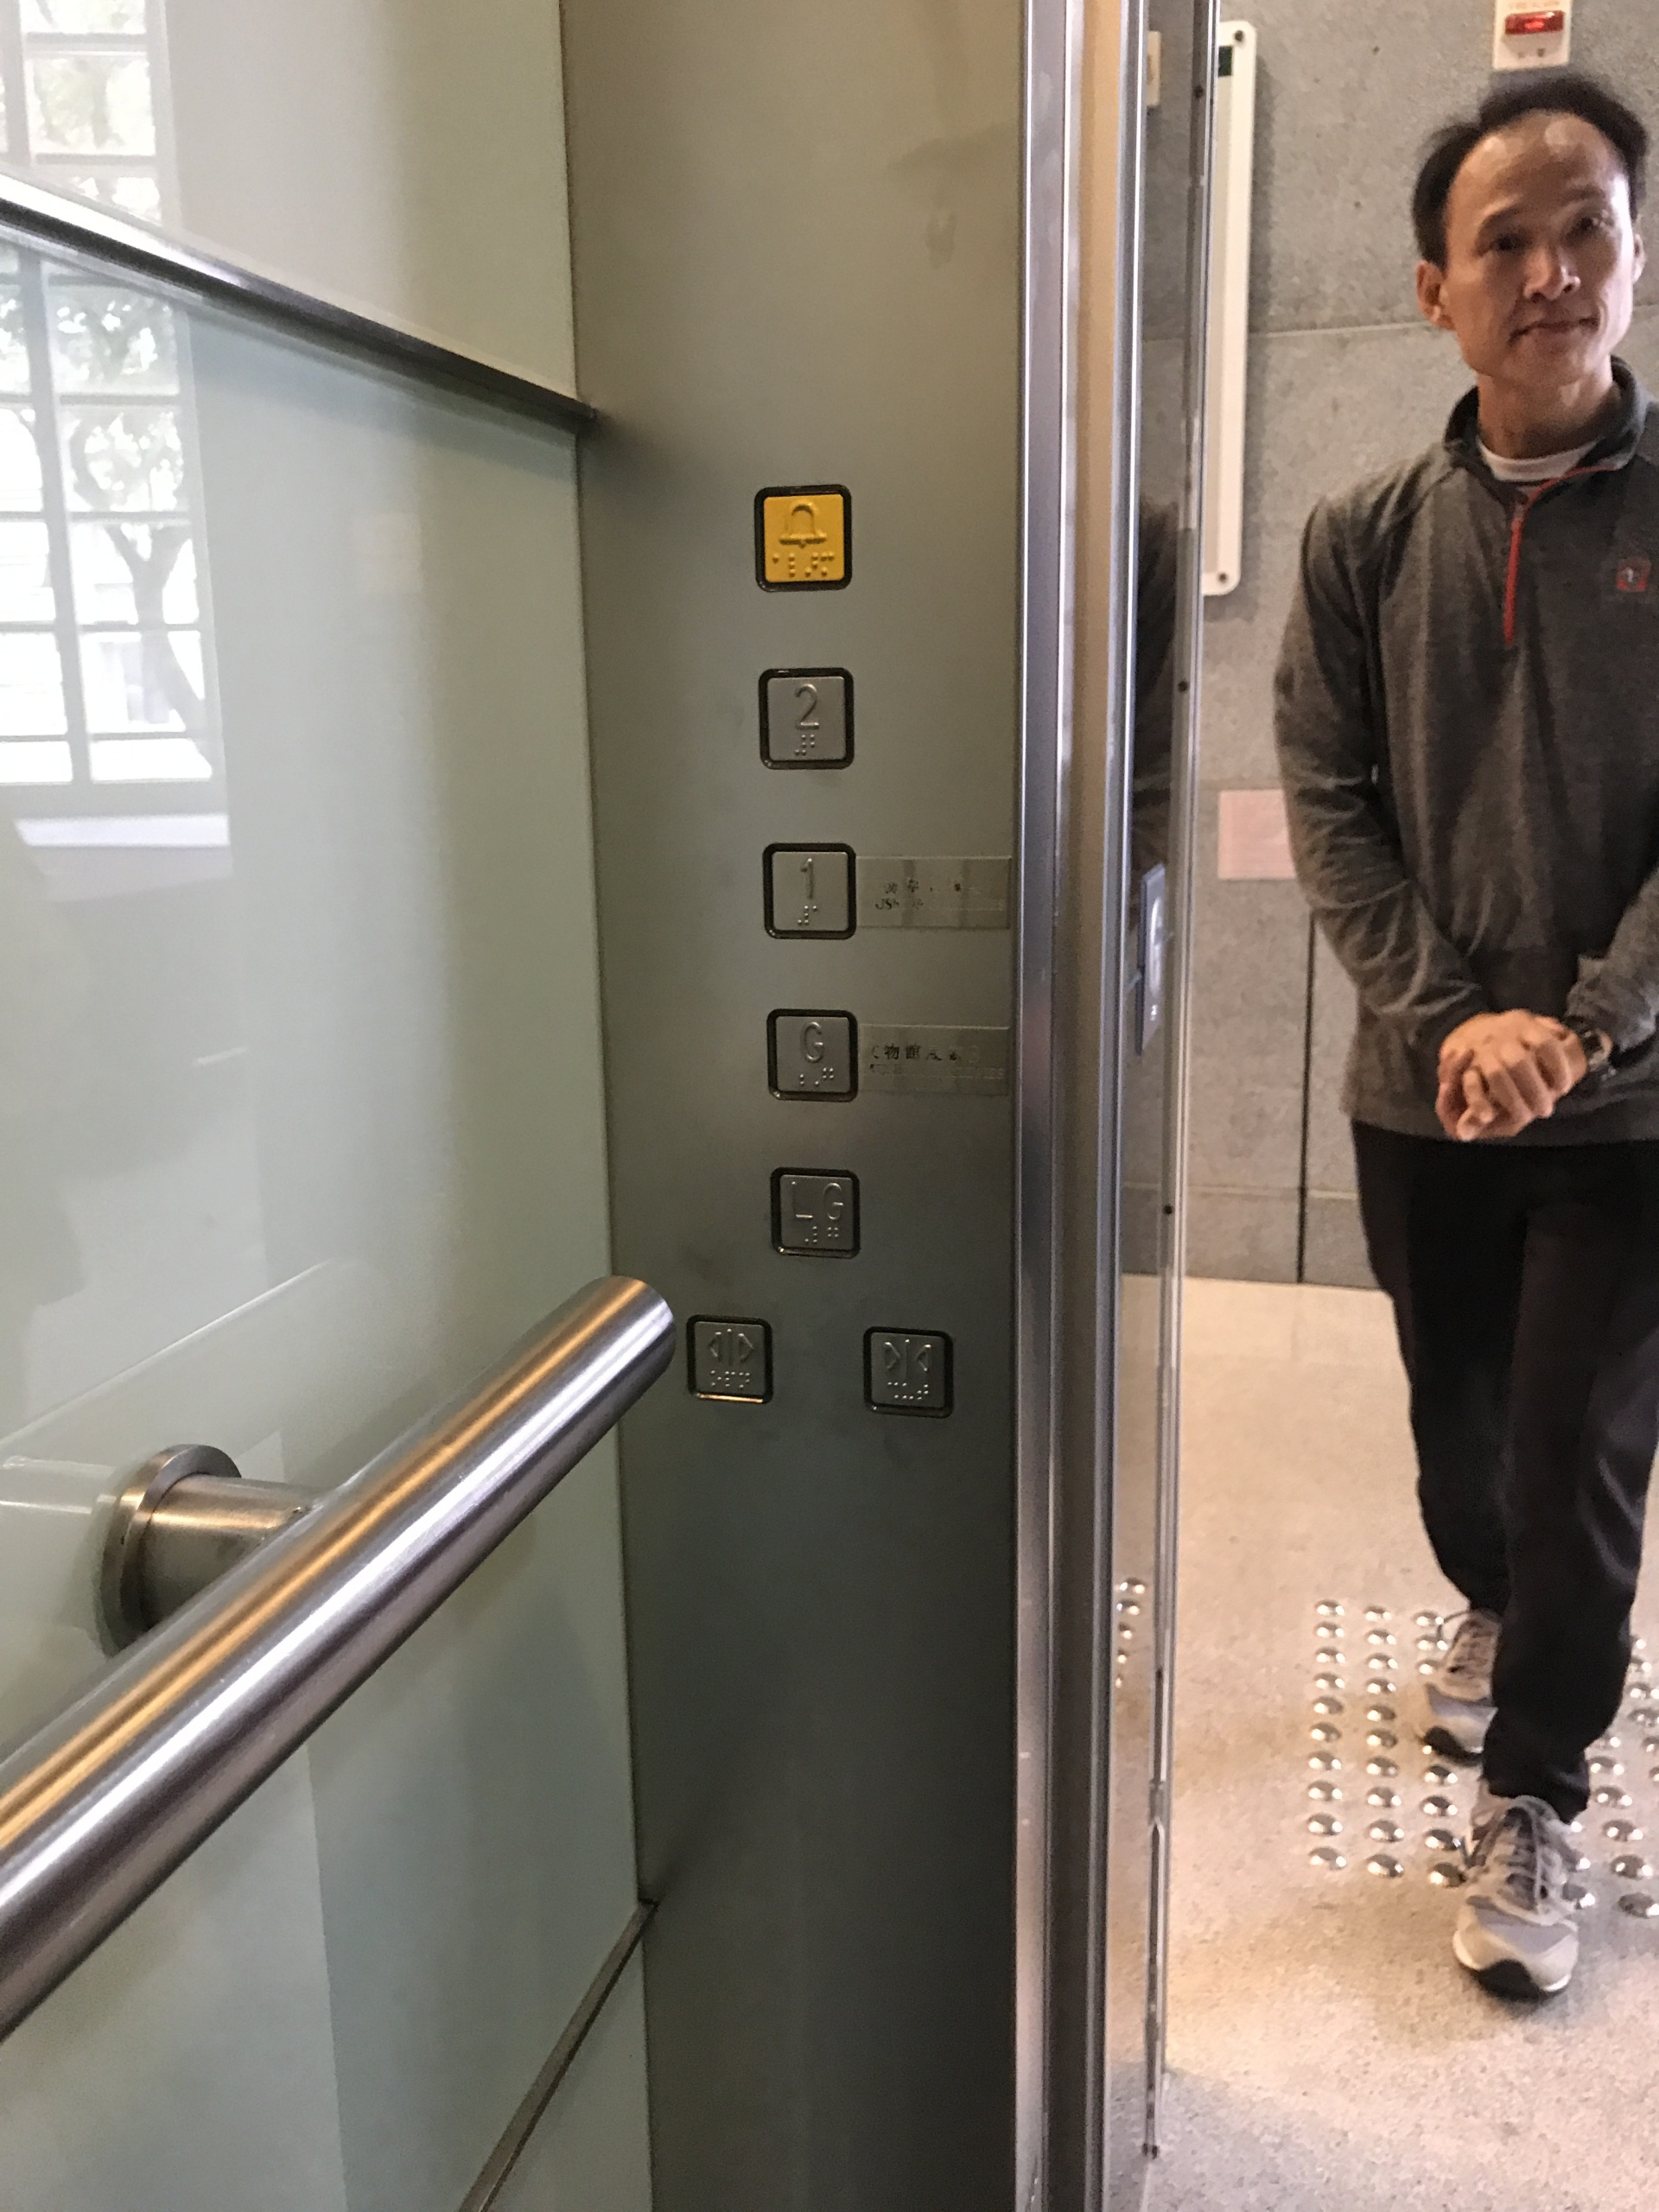1: (760, 840, 859, 941)
2: (755, 664, 857, 773)
G: (763, 1007, 861, 1104)
LG: (767, 1163, 863, 1263)
alarm: (751, 482, 854, 594)
close: (861, 1322, 955, 1421)
open: (683, 1312, 777, 1409)
